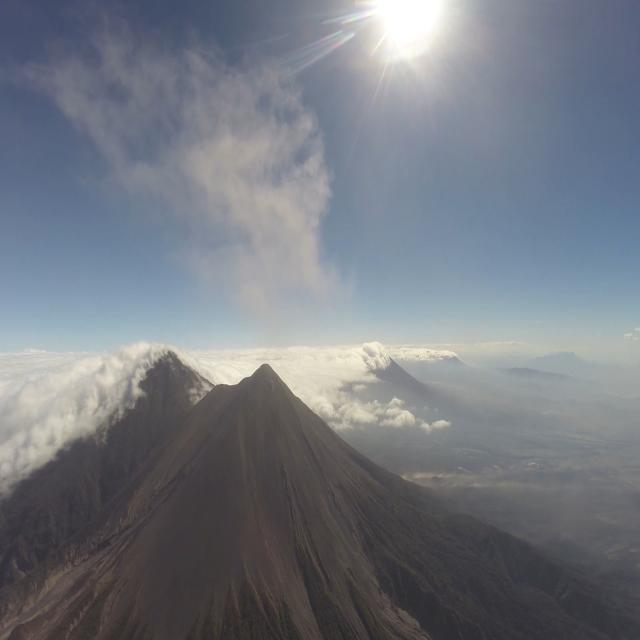Plume: (27, 9, 340, 303)
Summit: (236, 362, 294, 399)
